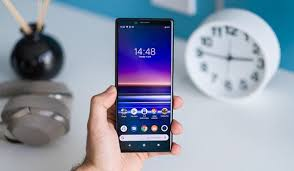sony: (109, 14, 176, 154)
